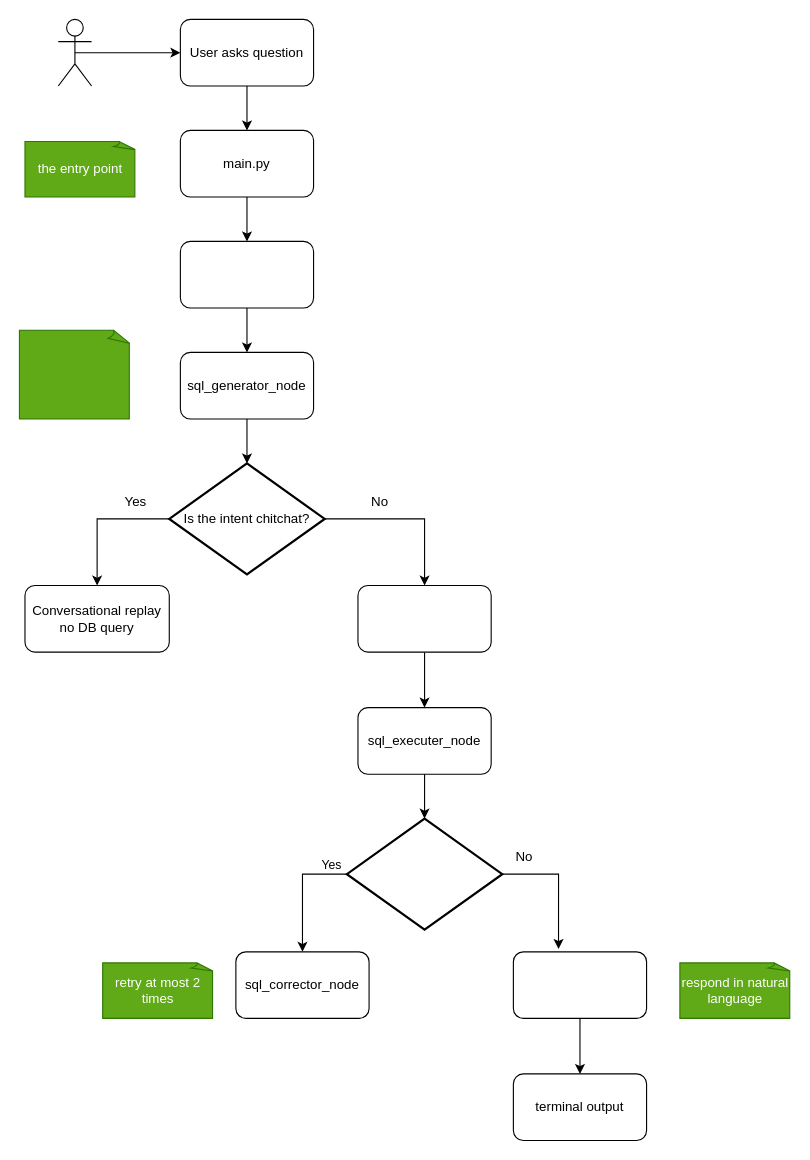
Image size: 810x1160. Some labels were removed from this diagram. The shapes that lost their labels are listed below. From the top down, each one's centre as x and y in pixels, then its label:
At [74,52]: "Actor".
At [246,274]: "graph.py".
At [74,374]: "from nodes.py to classify the intent and generate sql query".
At [424,618]: "SQL generated".
At [424,873]: "Is there an error?".
At [579,984]: "responder_node".
